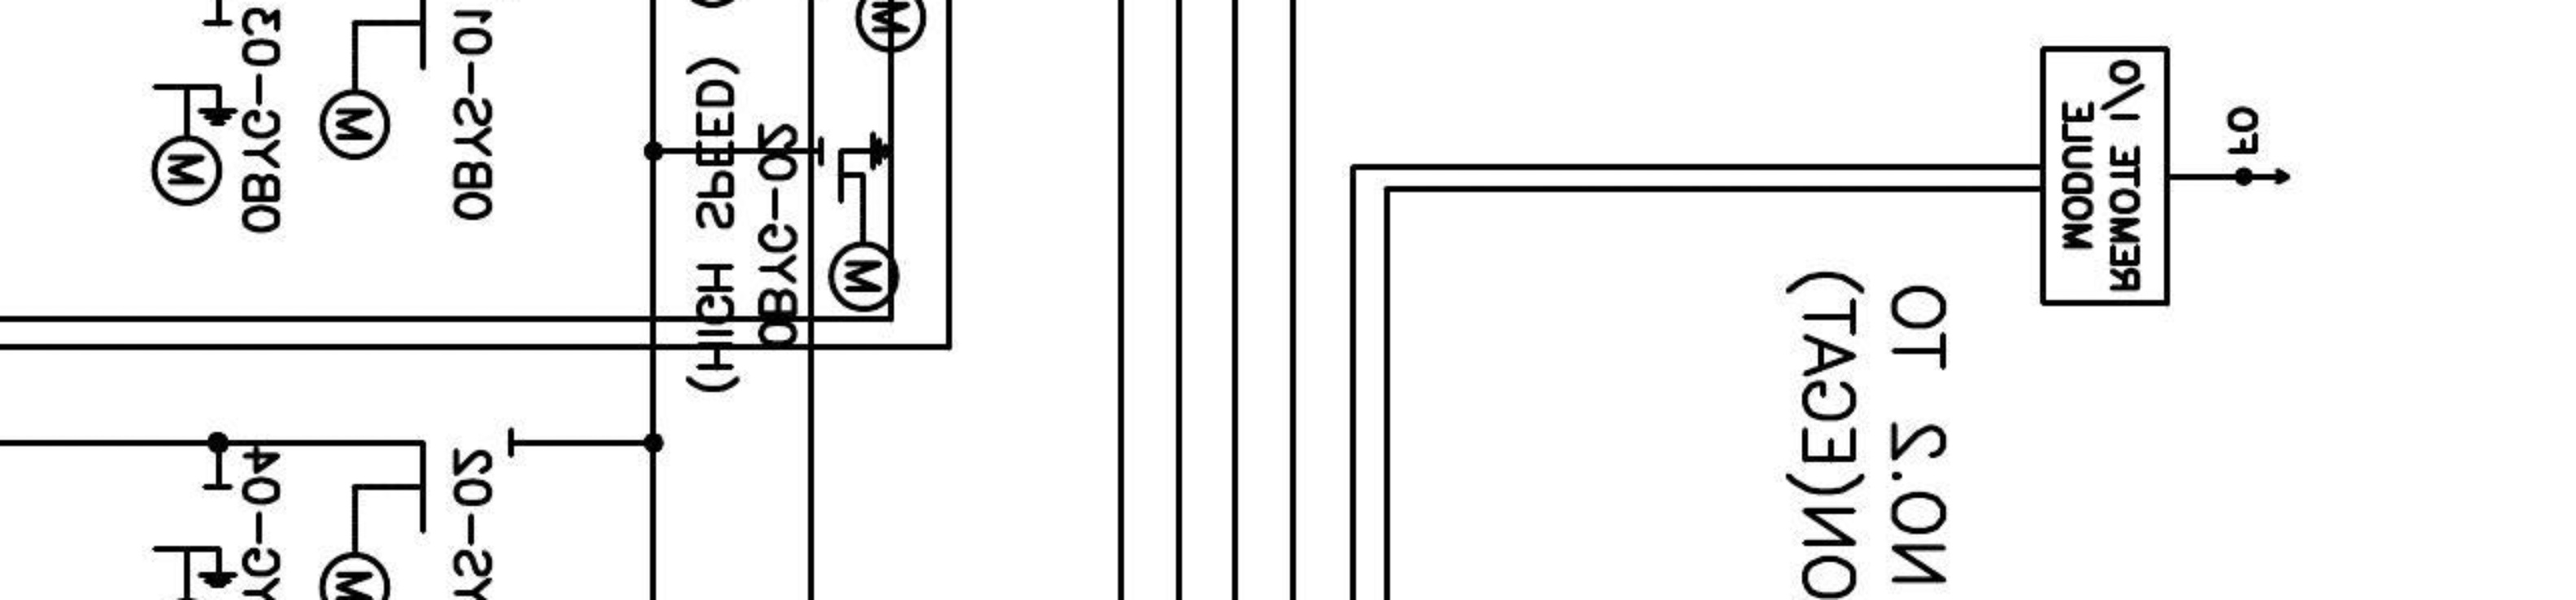115_gs_w_motor: (150, 20, 240, 207), (817, 128, 902, 314)
remote_io_module: (2039, 44, 2170, 307)
